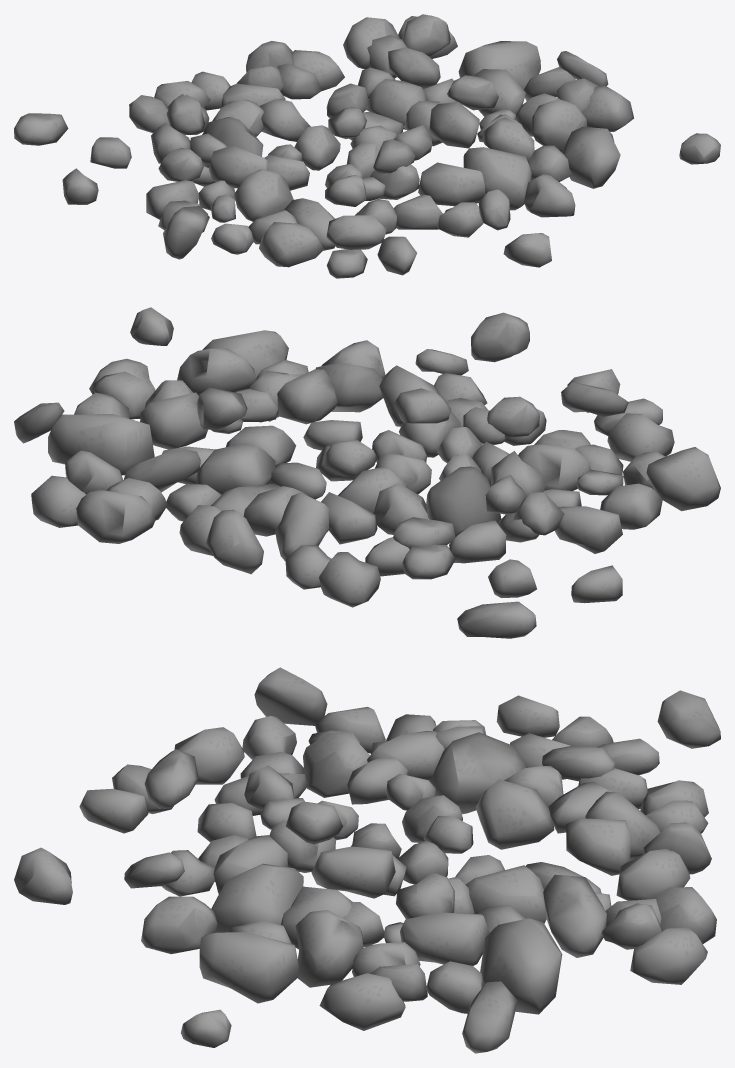
The model's file is PebNest01.fbx.
The picture shows the model from 3 angles, top to bottom: view 1: azimuth 30°, elevation 25°; view 2: azimuth 150°, elevation 25°; view 3: azimuth 270°, elevation 25°; orthographic projection. The views are drawn at different scales.
Parts seen in each view (by area): view 1: PebNest01; view 2: PebNest01; view 3: PebNest01.
Boxes of the visible parts, x1,y1,x2,y2 form: PebNest01: (14,14,720,278); PebNest01: (14,307,720,638); PebNest01: (14,667,720,1053).
Bounding box in the file's own units: 68.58 × 8.15 × 60.49.
